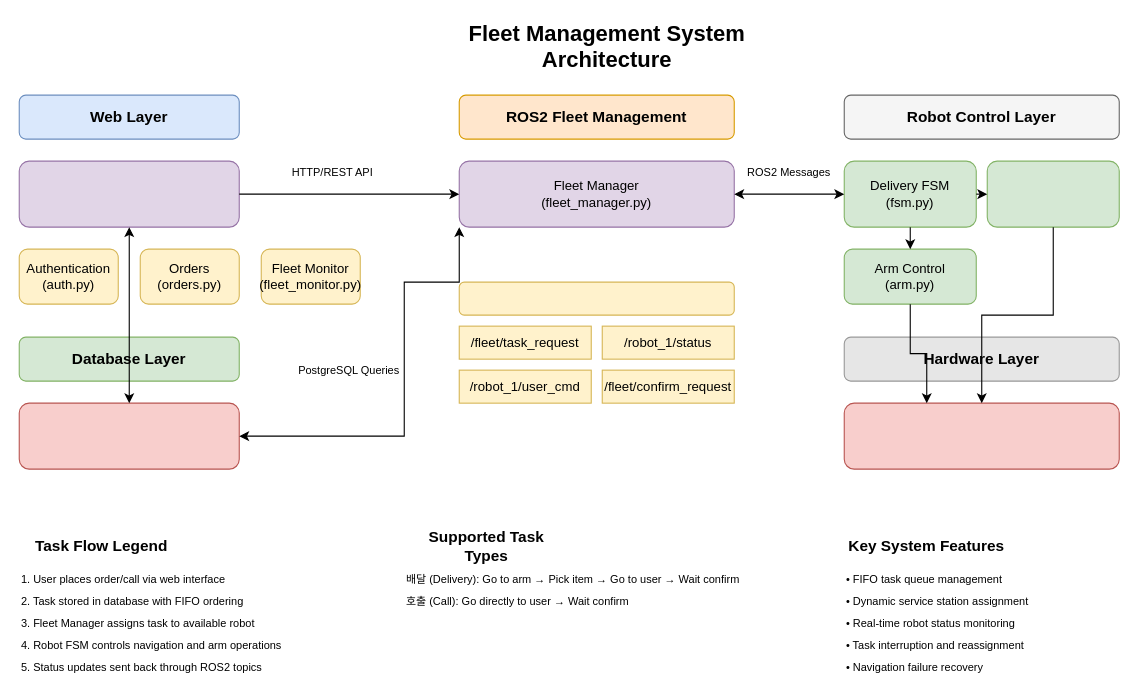
Image size: 1148x696. Some labels were removed from this diagram. The centre of each missing label's shape, as x and y in pixels:
"Flask Web Server (run_server.py)" belongs at pixel 128 193.
"Navigation (nav2_waypoint_class.py)" belongs at pixel 1052 193.
"Physical Robot (Navigation, Arm, Sensors)" belongs at pixel 981 435.
"PostgreSQL Database (SAP HANA compatible)" belongs at pixel 128 435.
"ROS2 Topics" belongs at pixel 596 298.
